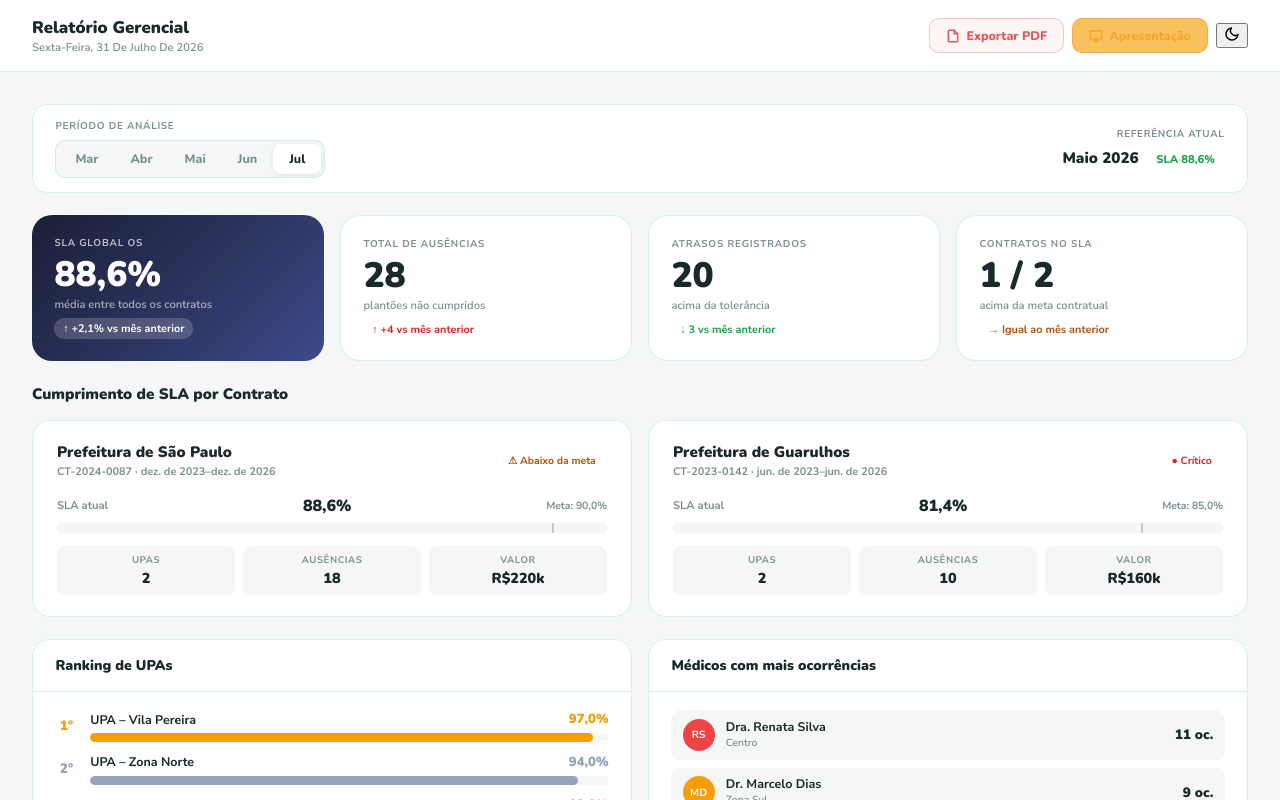
Scenario: <AdminGerencial /> › baixa a apresentação e mostra toast de sucesso ao clicar em Apresentação
This screenshot has width=1280, height=800.
Expected: the element with class "ger-kpi-hero" is shown, [32,215,1248,361]
Click the button "Apresentação".
click(1140, 36)  # box [1072,18,1208,53]
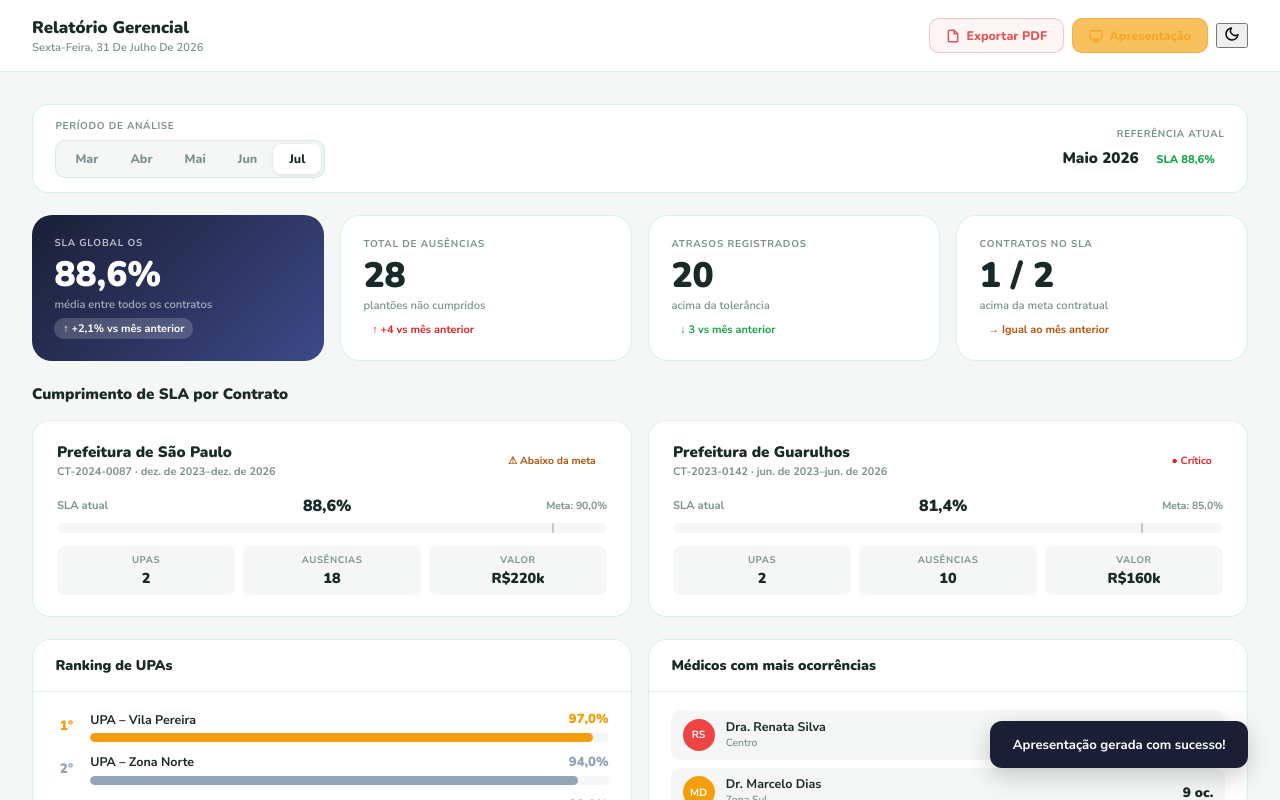
Now the text "Apresentação gerada com sucesso!" is shown, box [1013,736,1226,754]
